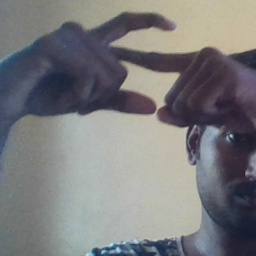E: (86, 8, 185, 123)
